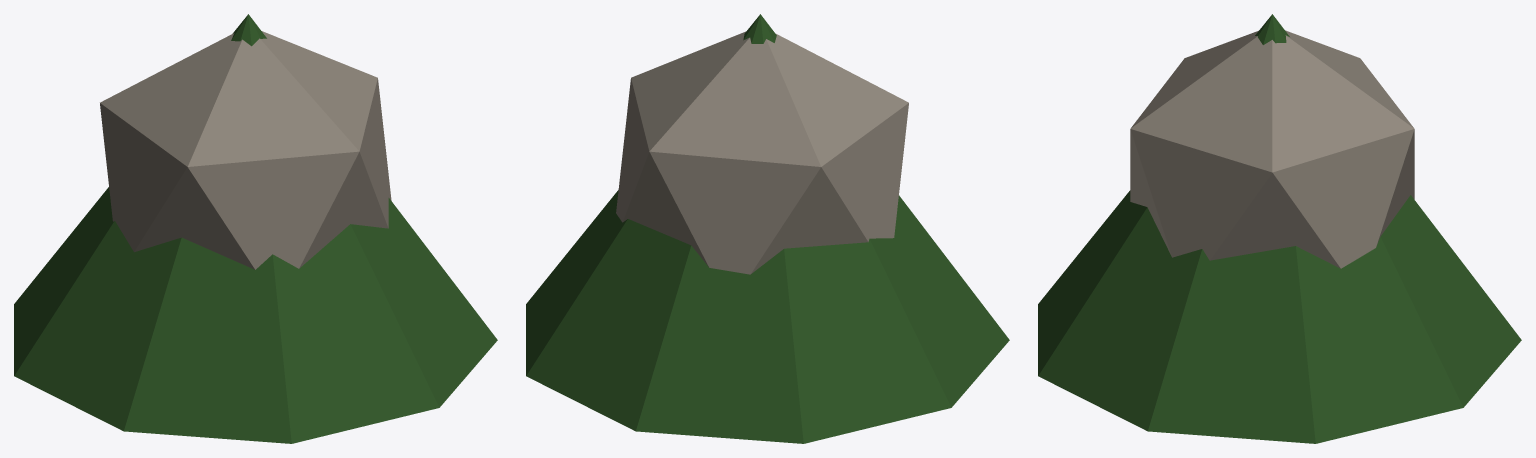
File: protos.glb
The picture shows the model from 3 angles, left to right: view 1: azimuth 30°, elevation 25°; view 2: azimuth 150°, elevation 25°; view 3: azimuth 270°, elevation 25°; orthographic projection.
Visible parts, largest first — view 1: VP_Cone_006, VP_Icosphere_002; view 2: VP_Cone_006, VP_Icosphere_002; view 3: VP_Cone_006, VP_Icosphere_002.
Boxes of the visible parts, x1=… form: VP_Cone_006: x1=14, y1=14, x2=497, y2=443; VP_Icosphere_002: x1=100, y1=31, x2=391, y2=269; VP_Cone_006: x1=526, y1=14, x2=1009, y2=443; VP_Icosphere_002: x1=616, y1=31, x2=908, y2=274; VP_Cone_006: x1=1038, y1=14, x2=1521, y2=443; VP_Icosphere_002: x1=1130, y1=30, x2=1414, y2=268.
Bounding box in the file's own units: 17.63 × 12.92 × 17.37.
